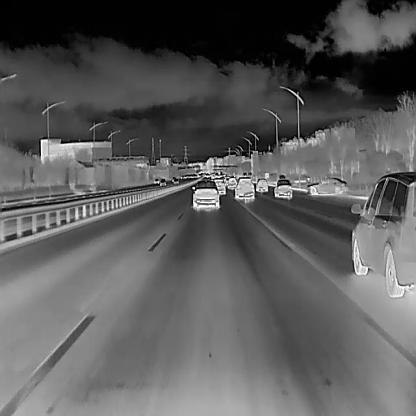car: (349, 168, 416, 297), (191, 177, 220, 212), (306, 175, 350, 196), (233, 175, 255, 200), (273, 176, 293, 201), (254, 177, 268, 193), (212, 177, 225, 194), (226, 176, 237, 190), (159, 176, 167, 186), (152, 176, 160, 185), (172, 177, 179, 185)
